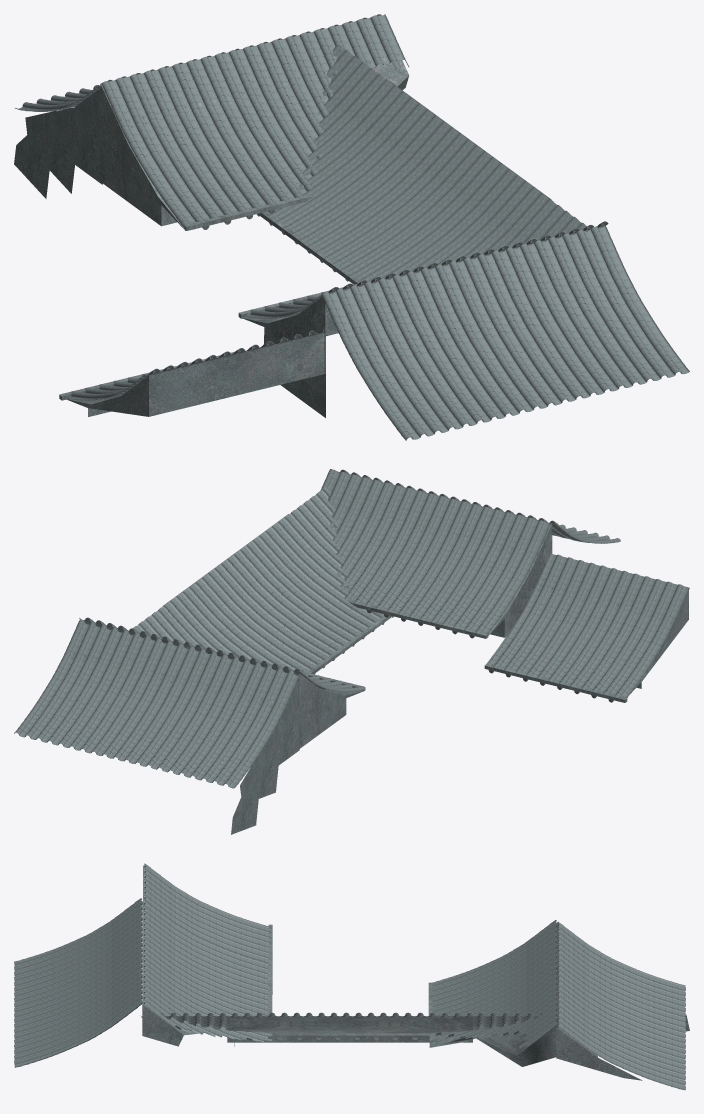
The model's file is Roof_Clean.fbx.
The picture shows the model from 3 angles, top to bottom: view 1: azimuth 30°, elevation 25°; view 2: azimuth 150°, elevation 25°; view 3: azimuth 270°, elevation 25°; orthographic projection. The views are drawn at different scales.
Visible parts, largest first — view 1: Roofing (×6), Roofing_Module1_pCylinder18, Roofing_Module3_pCylinder22, Roofing2, Roofing_Module2_pCylinder22, polySurface2, polySurface3, polySurface1, Roofing1, Roofing_Module_pCylinder22; view 2: Roofing (×6), Roofing_Module2_pCylinder22, Roofing_Module3_pCylinder22, Roofing_Module1_pCylinder18, Roofing1, polySurface1, polySurface3, polySurface2, Roofing2, Roofing_Module_pCylinder22; view 3: Roofing (×6), Roofing_Module_pCylinder22, Roofing_Module3_pCylinder22, Roofing_Module2_pCylinder22, polySurface1, Roofing2, Roofing1.
Boxes of the visible parts, x1=… form: Roofing (×6): x1=15, y1=14, x2=689, y2=440; Roofing_Module1_pCylinder18: x1=59, y1=333, x2=325, y2=417; Roofing_Module3_pCylinder22: x1=100, y1=15, x2=409, y2=230; Roofing2: x1=313, y1=44, x2=385, y2=147; Roofing_Module2_pCylinder22: x1=238, y1=227, x2=603, y2=395; polySurface2: x1=14, y1=110, x2=56, y2=198; polySurface3: x1=40, y1=105, x2=81, y2=193; polySurface1: x1=75, y1=89, x2=102, y2=184; Roofing1: x1=507, y1=199, x2=586, y2=247; Roofing_Module_pCylinder22: x1=256, y1=81, x2=551, y2=284; Roofing (×6): x1=14, y1=469, x2=689, y2=788; Roofing_Module2_pCylinder22: x1=330, y1=471, x2=552, y2=638; Roofing_Module3_pCylinder22: x1=84, y1=621, x2=365, y2=748; Roofing_Module1_pCylinder18: x1=484, y1=554, x2=688, y2=702; Roofing1: x1=291, y1=487, x2=344, y2=564; polySurface1: x1=71, y1=644, x2=299, y2=765; polySurface3: x1=251, y1=712, x2=283, y2=801; polySurface2: x1=231, y1=748, x2=263, y2=834; Roofing2: x1=133, y1=606, x2=199, y2=646; Roofing_Module_pCylinder22: x1=162, y1=514, x2=393, y2=674; Roofing (×6): x1=14, y1=863, x2=685, y2=1090; Roofing_Module_pCylinder22: x1=227, y1=1016, x2=472, y2=1042; Roofing_Module3_pCylinder22: x1=428, y1=922, x2=558, y2=1066; Roofing_Module2_pCylinder22: x1=142, y1=901, x2=272, y2=1046; polySurface1: x1=556, y1=1027, x2=642, y2=1080; Roofing2: x1=471, y1=1012, x2=542, y2=1030; Roofing1: x1=141, y1=1012, x2=225, y2=1029.
Size of the model in its own units: 5.85 by 1.76 by 8.8.
1 material, 1 textured.
